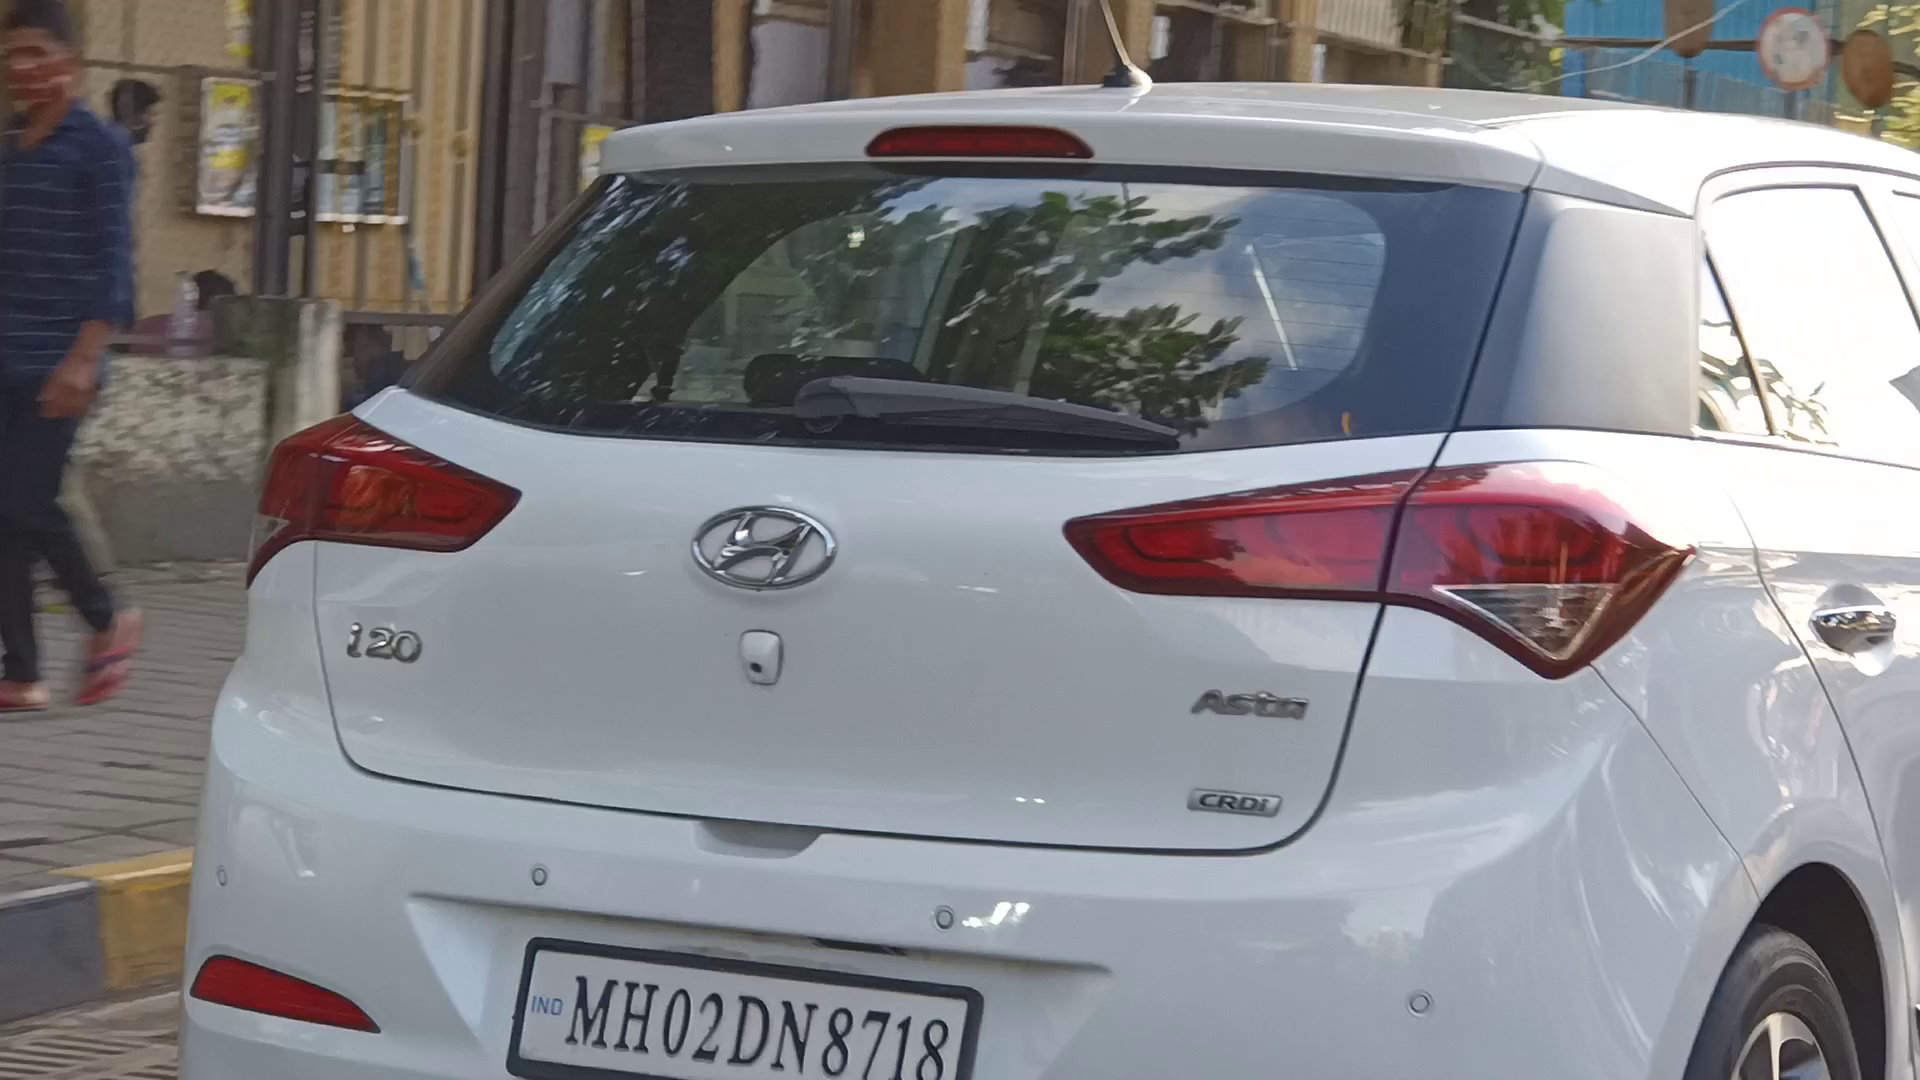MH02DN8718: (519, 951, 968, 1080)
